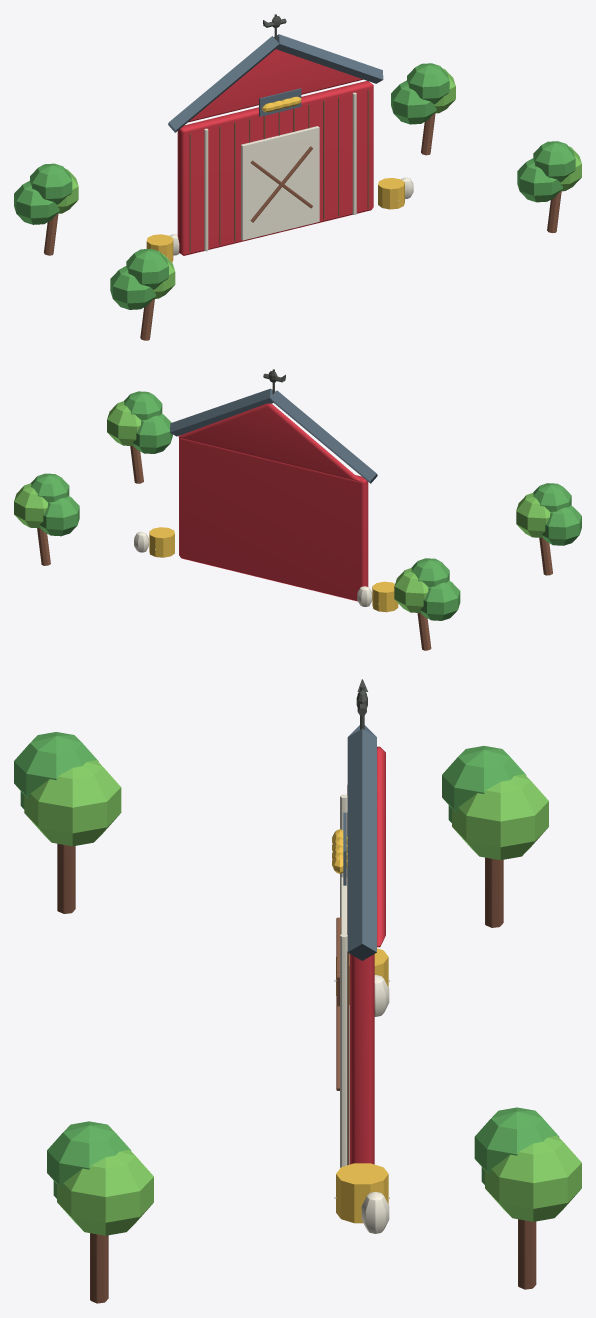
File: gallinas_granero_r8.glb
3 renders of one model, top to bottom at view 1: azimuth 30°, elevation 25°; view 2: azimuth 150°, elevation 25°; view 3: azimuth 270°, elevation 25°, orthographic. The views are drawn at different scales.
Parts seen in each view (by area): view 1: barn body, leaf canopy, double barn doors, left slate roof, vertical barn board, hay at loft, leaf canopy.001; view 2: barn body, leaf canopy, leaf canopy.001, left slate roof, vertical barn board, hay at loft, double barn doors; view 3: leaf canopy.001, leaf canopy, left slate roof, barn body, vertical barn board, double barn doors, hay at loft.
Part boxes in pixels (x1,y1,x2,y2): barn body: (177, 49, 373, 255); leaf canopy: (14, 63, 575, 309); double barn doors: (167, 92, 413, 257); left slate roof: (168, 34, 383, 132); vertical barn board: (44, 89, 561, 340); hay at loft: (146, 96, 404, 262); leaf canopy.001: (57, 68, 581, 298); barn body: (178, 403, 368, 601); leaf canopy: (31, 391, 581, 620); leaf canopy.001: (14, 401, 550, 612); left slate roof: (170, 388, 377, 483); vertical barn board: (37, 446, 552, 650); hay at loft: (149, 527, 398, 612); double barn doors: (134, 531, 378, 606); leaf canopy.001: (24, 760, 581, 1235); leaf canopy: (14, 732, 559, 1198); left slate roof: (343, 725, 376, 960); barn body: (350, 746, 385, 1164); vertical barn board: (57, 785, 536, 1303); double barn doors: (334, 794, 389, 1233); hay at loft: (332, 829, 388, 1223).
Size of the model in its own units: 32.15 by 14.15 by 17.26.
